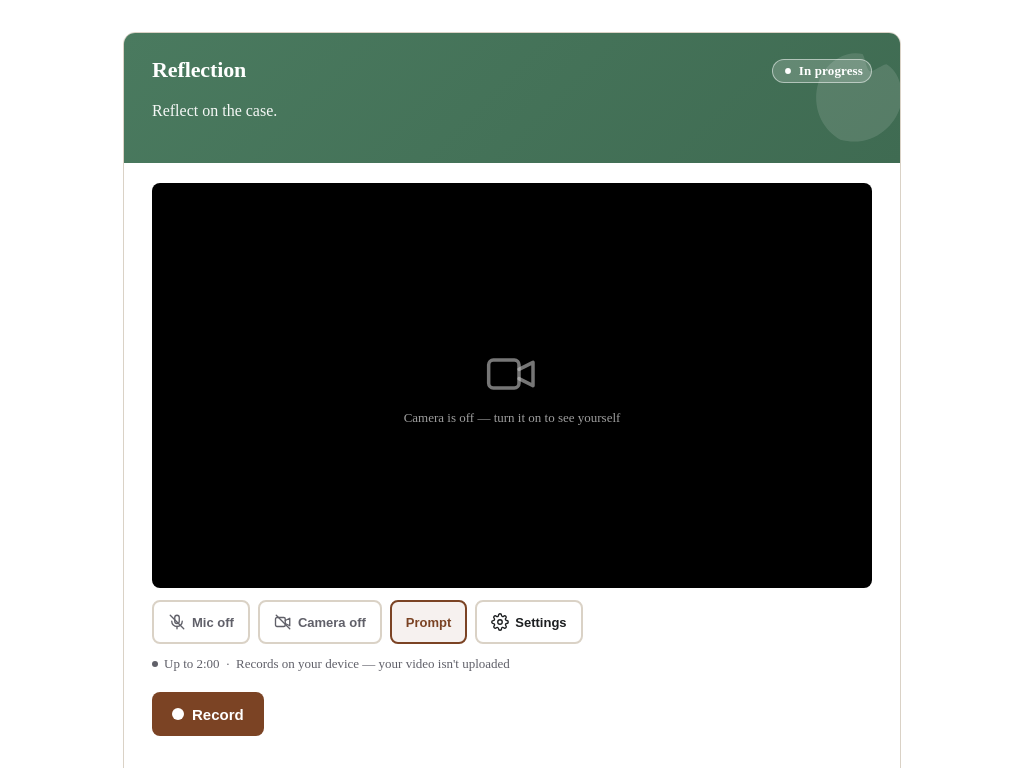
video-reflection Component › surfaces an error when camera/mic access is denied
Click the button "Record" at point(208, 714), box [152,692,264,736]
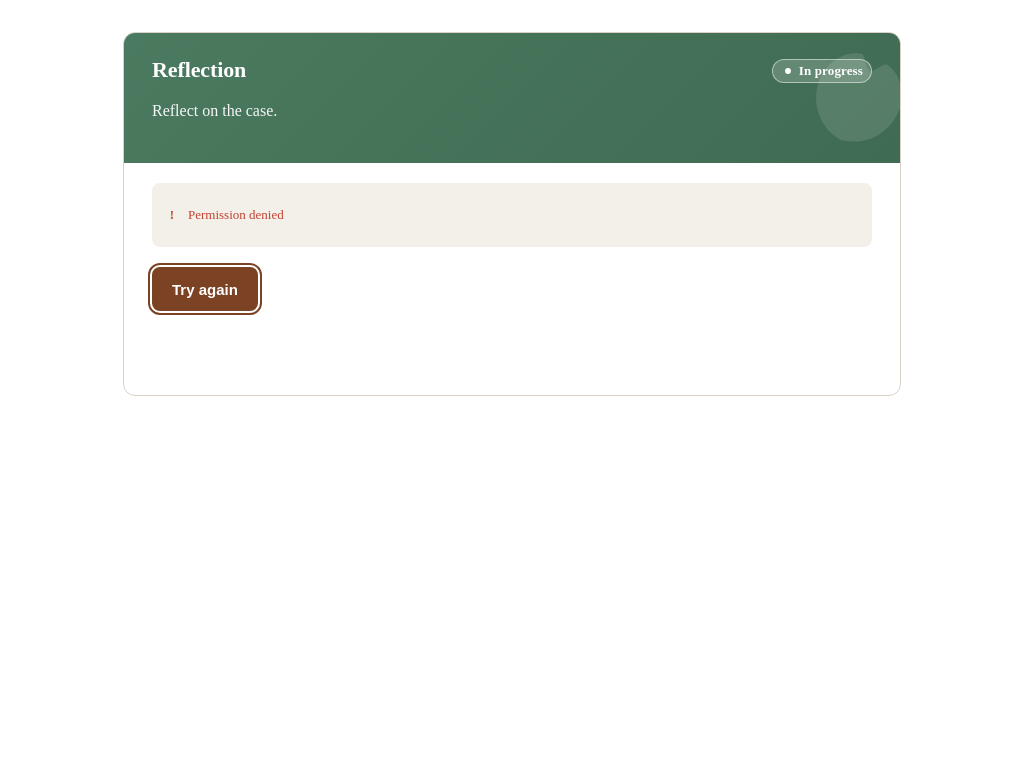
expect the text "Permission denied" is shown: met, box [188,207,284,223]
expect the button "Try again" is shown: met, box [152,267,258,311]
